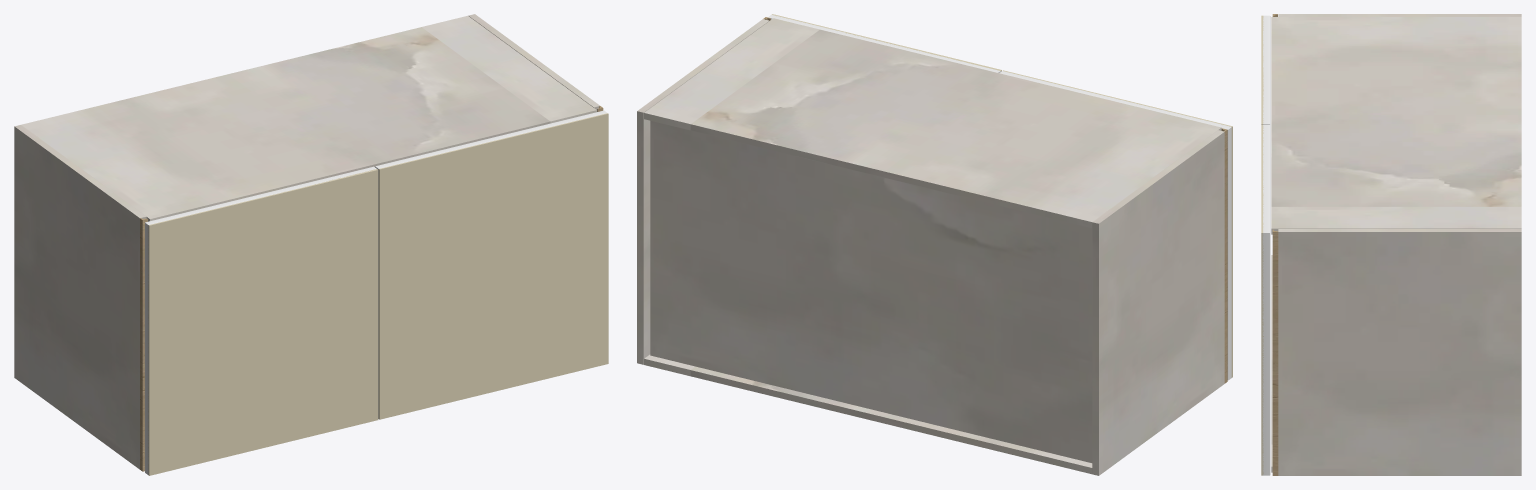
File: WALL LOFT BLIND CABINET 1 SHELF (H600xW1150xD560) WLC1S1HS_LH.glb
3 views of the same model, side by side, from view 1: azimuth 30°, elevation 25°; view 2: azimuth 150°, elevation 25°; view 3: azimuth 270°, elevation 25° (orthographic). The views are drawn at different scales.
Size of what is drawn, in the model's own units: 1.15 by 0.6 by 0.5808.
6 materials, 2 textured.
